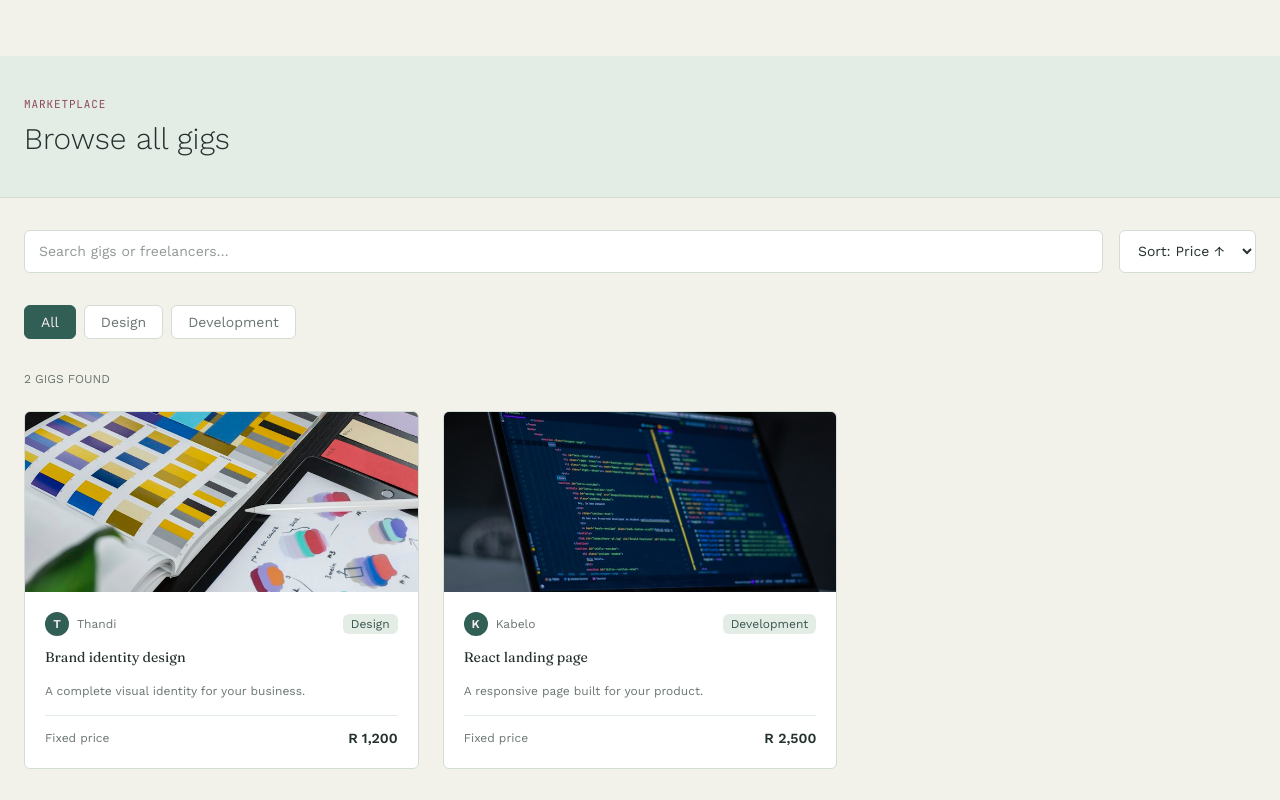
Test: BrowsePage › filters listings when the search field is used
The image size is (1280, 800).
In the field labelled "Search gigs": (564, 251) x1=24 y1=230 x2=1103 y2=272, type "React"
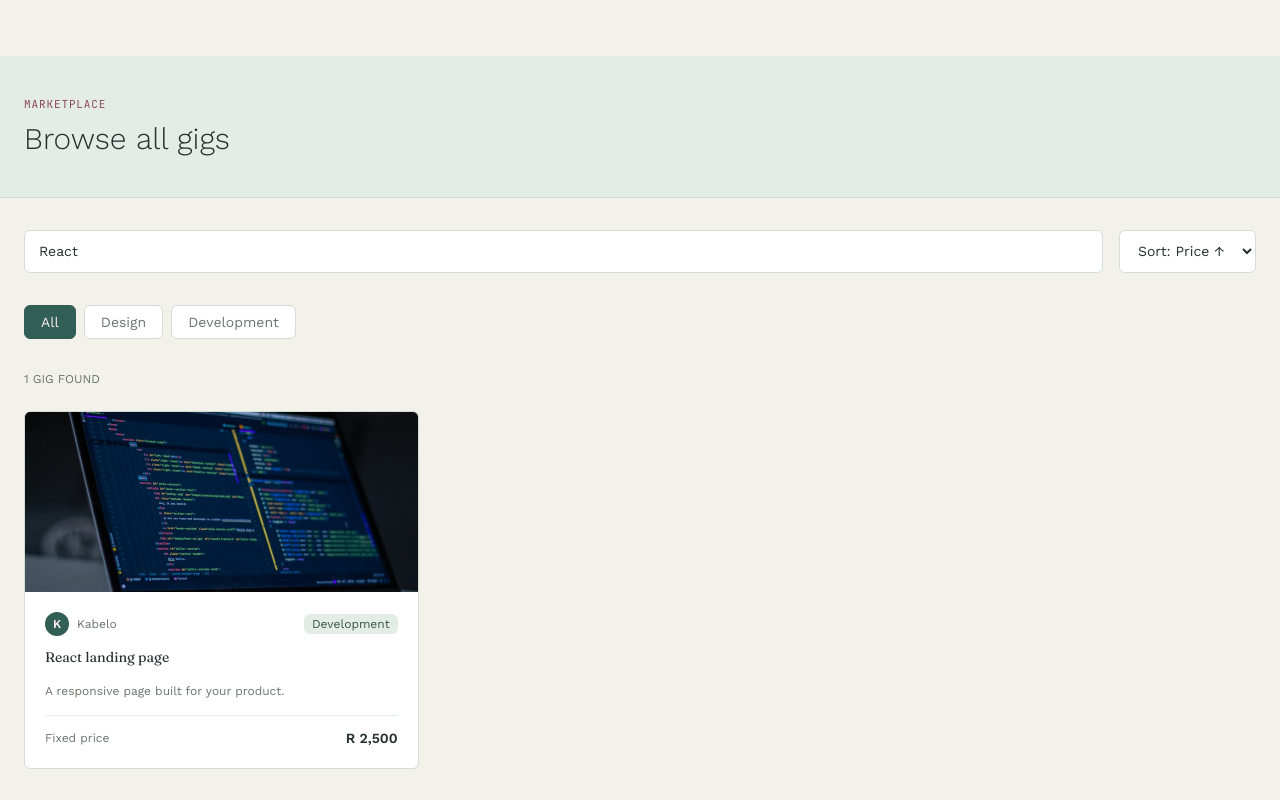
Check: the heading "React landing page" is shown, box x1=45 y1=648 x2=169 y2=666
Check: the button "Brand identity design" is gone
